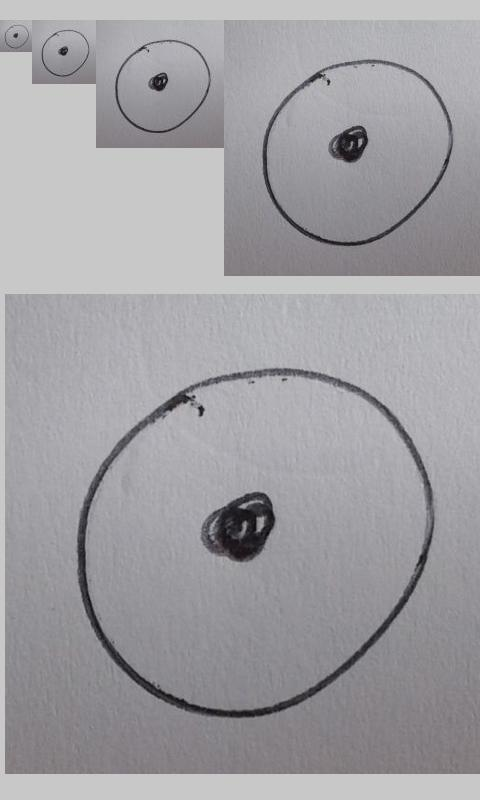radio_button: (73, 366, 438, 720), (259, 56, 455, 248), (114, 38, 212, 134), (40, 28, 91, 78), (4, 23, 30, 49)
